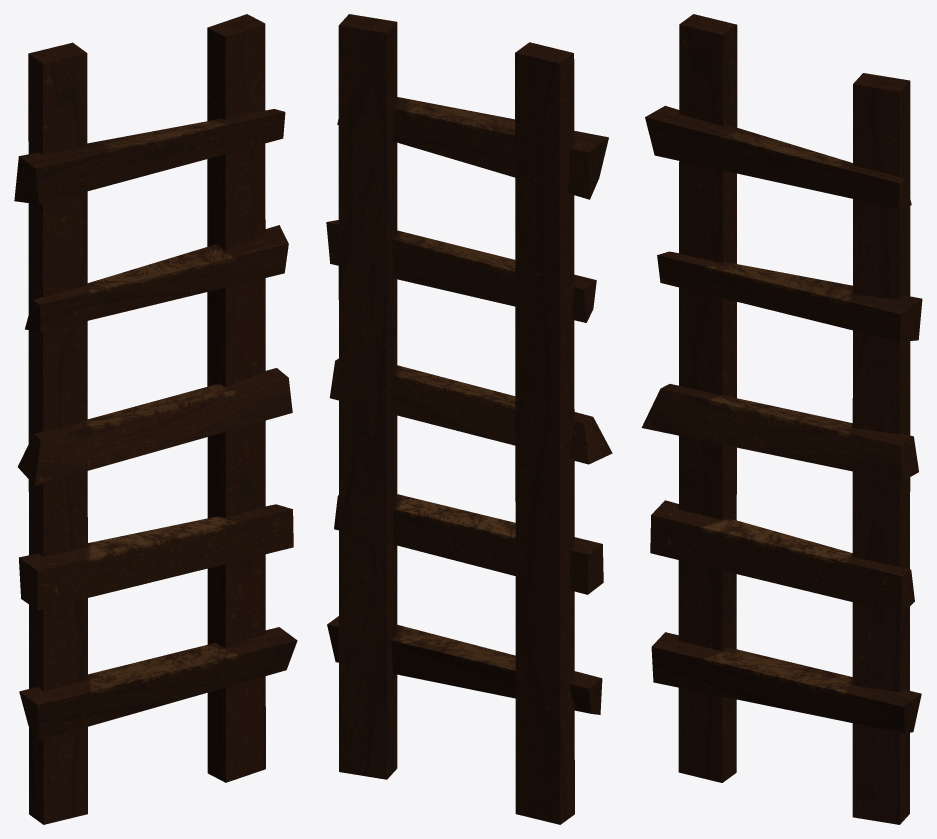
File: Escada.glb
3 views of the same model, side by side, from view 1: azimuth 30°, elevation 25°; view 2: azimuth 150°, elevation 25°; view 3: azimuth 330°, elevation 25° (orthographic).
Visible parts, largest first — view 1: escada6, escada7, escada4, escada3, escada5, escada1, escada2; view 2: escada6, escada7, escada1, escada4, escada3, escada2, escada5; view 3: escada7, escada6, escada4, escada3, escada5, escada1, escada2.
Boxes of the visible parts, x1,y1,x2,y2 form: escada6: [28, 42, 87, 824]; escada7: [207, 14, 265, 782]; escada4: [18, 504, 293, 610]; escada3: [18, 368, 292, 485]; escada5: [19, 627, 297, 740]; escada1: [14, 109, 285, 204]; escada2: [25, 225, 288, 331]; escada6: [515, 42, 574, 824]; escada7: [338, 14, 397, 779]; escada1: [337, 97, 608, 199]; escada4: [334, 494, 603, 594]; escada3: [329, 358, 612, 464]; escada2: [326, 220, 596, 322]; escada5: [327, 616, 602, 714]; escada7: [852, 73, 910, 824]; escada6: [678, 14, 737, 782]; escada4: [650, 500, 914, 613]; escada3: [641, 384, 918, 481]; escada5: [651, 632, 921, 733]; escada1: [645, 105, 911, 208]; escada2: [657, 251, 922, 341].
Size of the model in its own units: 1.01 by 2.76 by 0.2013.
Materials: 7 (7 with a texture image).
